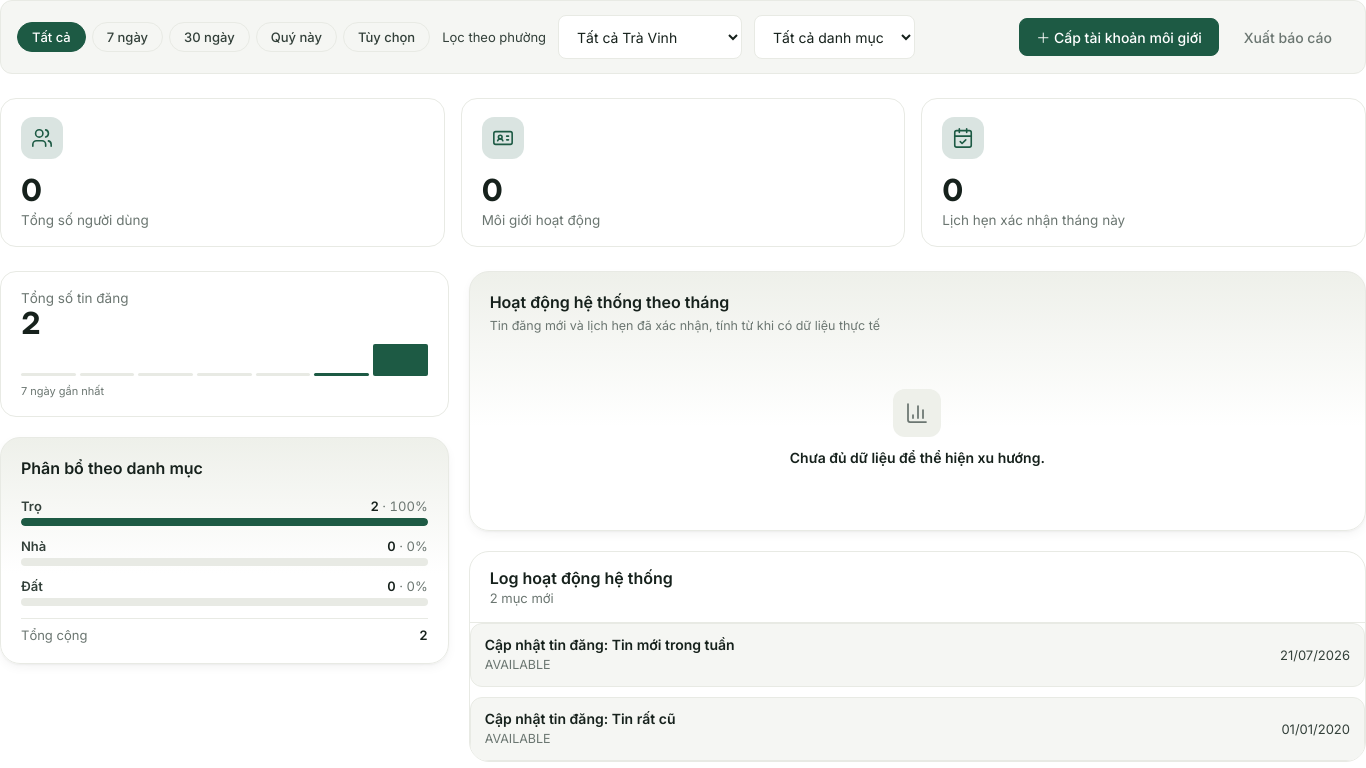
audit widget only shows properties/viewings inside the selected date range
Click the button "7 ngày": {"x": 127, "y": 37} [92,22,163,52]
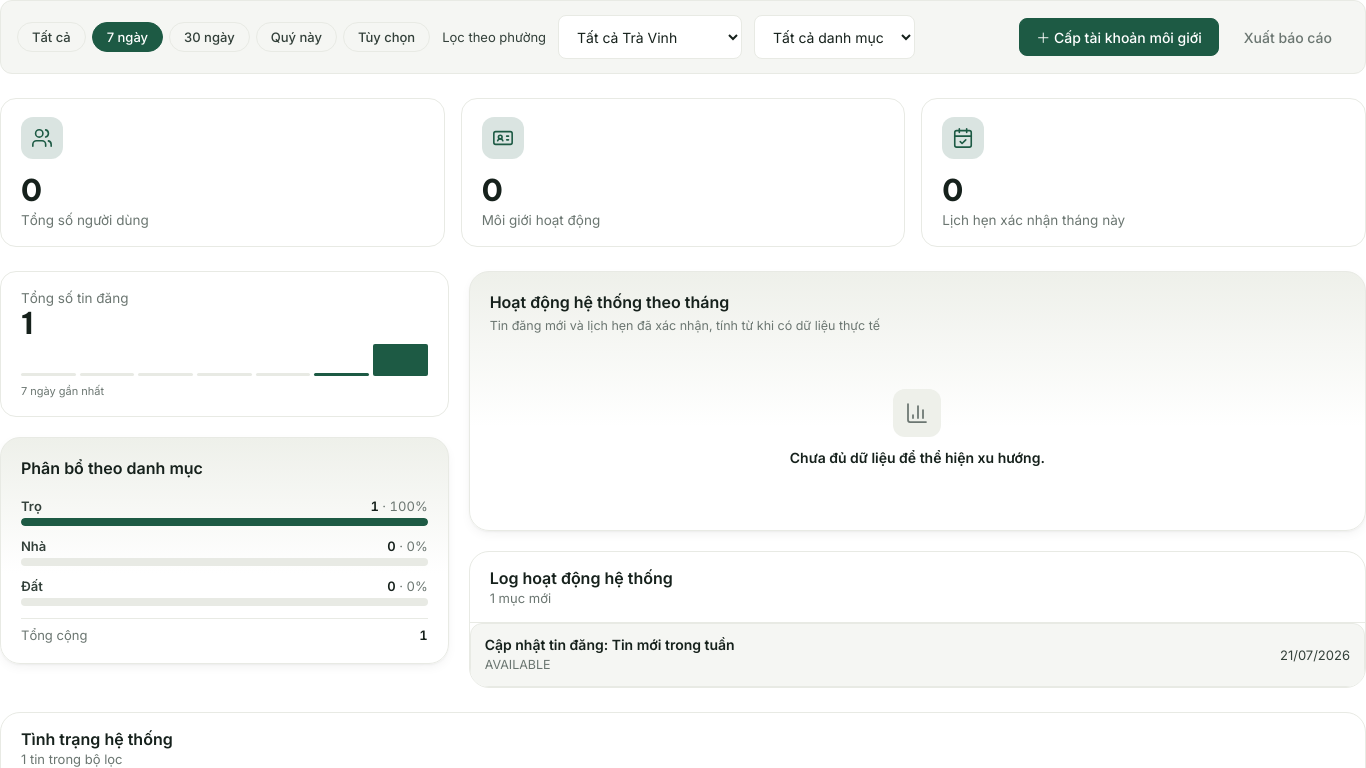
Expected: the text "Cập nhật tin đăng: Tin mới trong tuần" is shown, [485,636,735,653]
Expected: the text "Tin rất cũ" is gone
